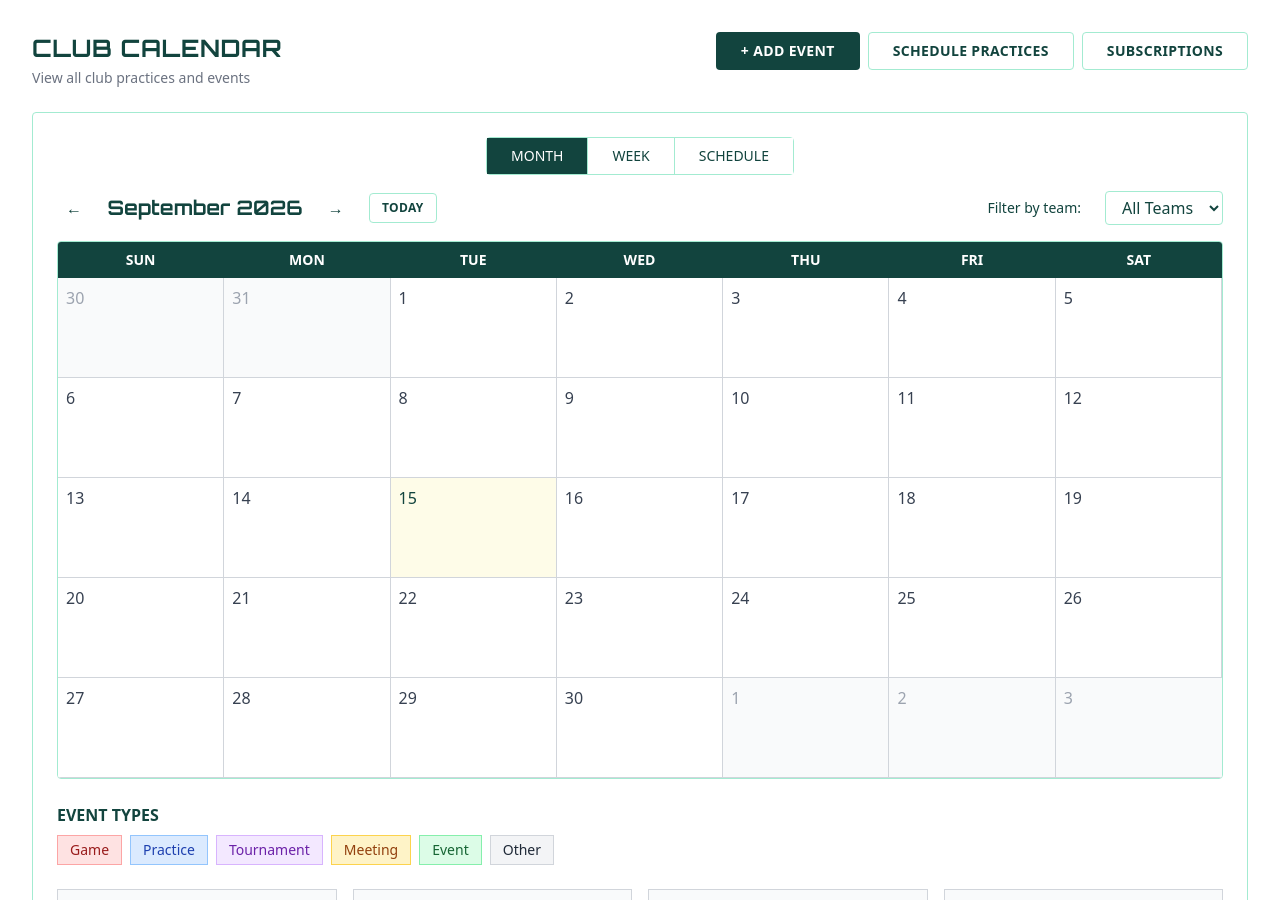
it: TeamCalendarView practice counts › lists upcoming practices in the Schedule view instead of claiming none
Click the button "Schedule" at (733, 156), box left=674, top=138, right=793, bottom=174
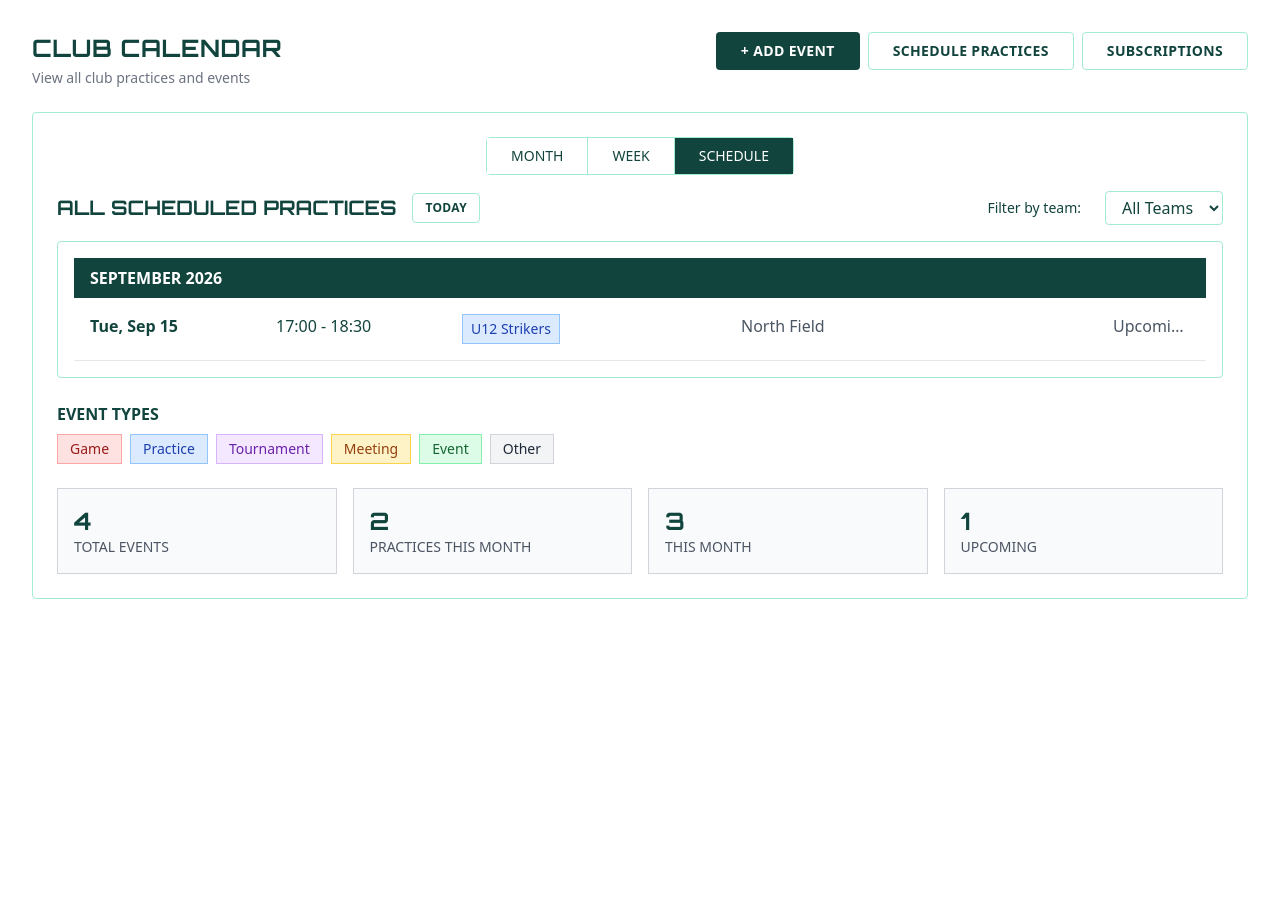
Check: the heading "All Scheduled Practices" is shown, box left=57, top=194, right=396, bottom=222
Check: the text "Upcoming Practice" is shown, box left=1113, top=314, right=1190, bottom=338
